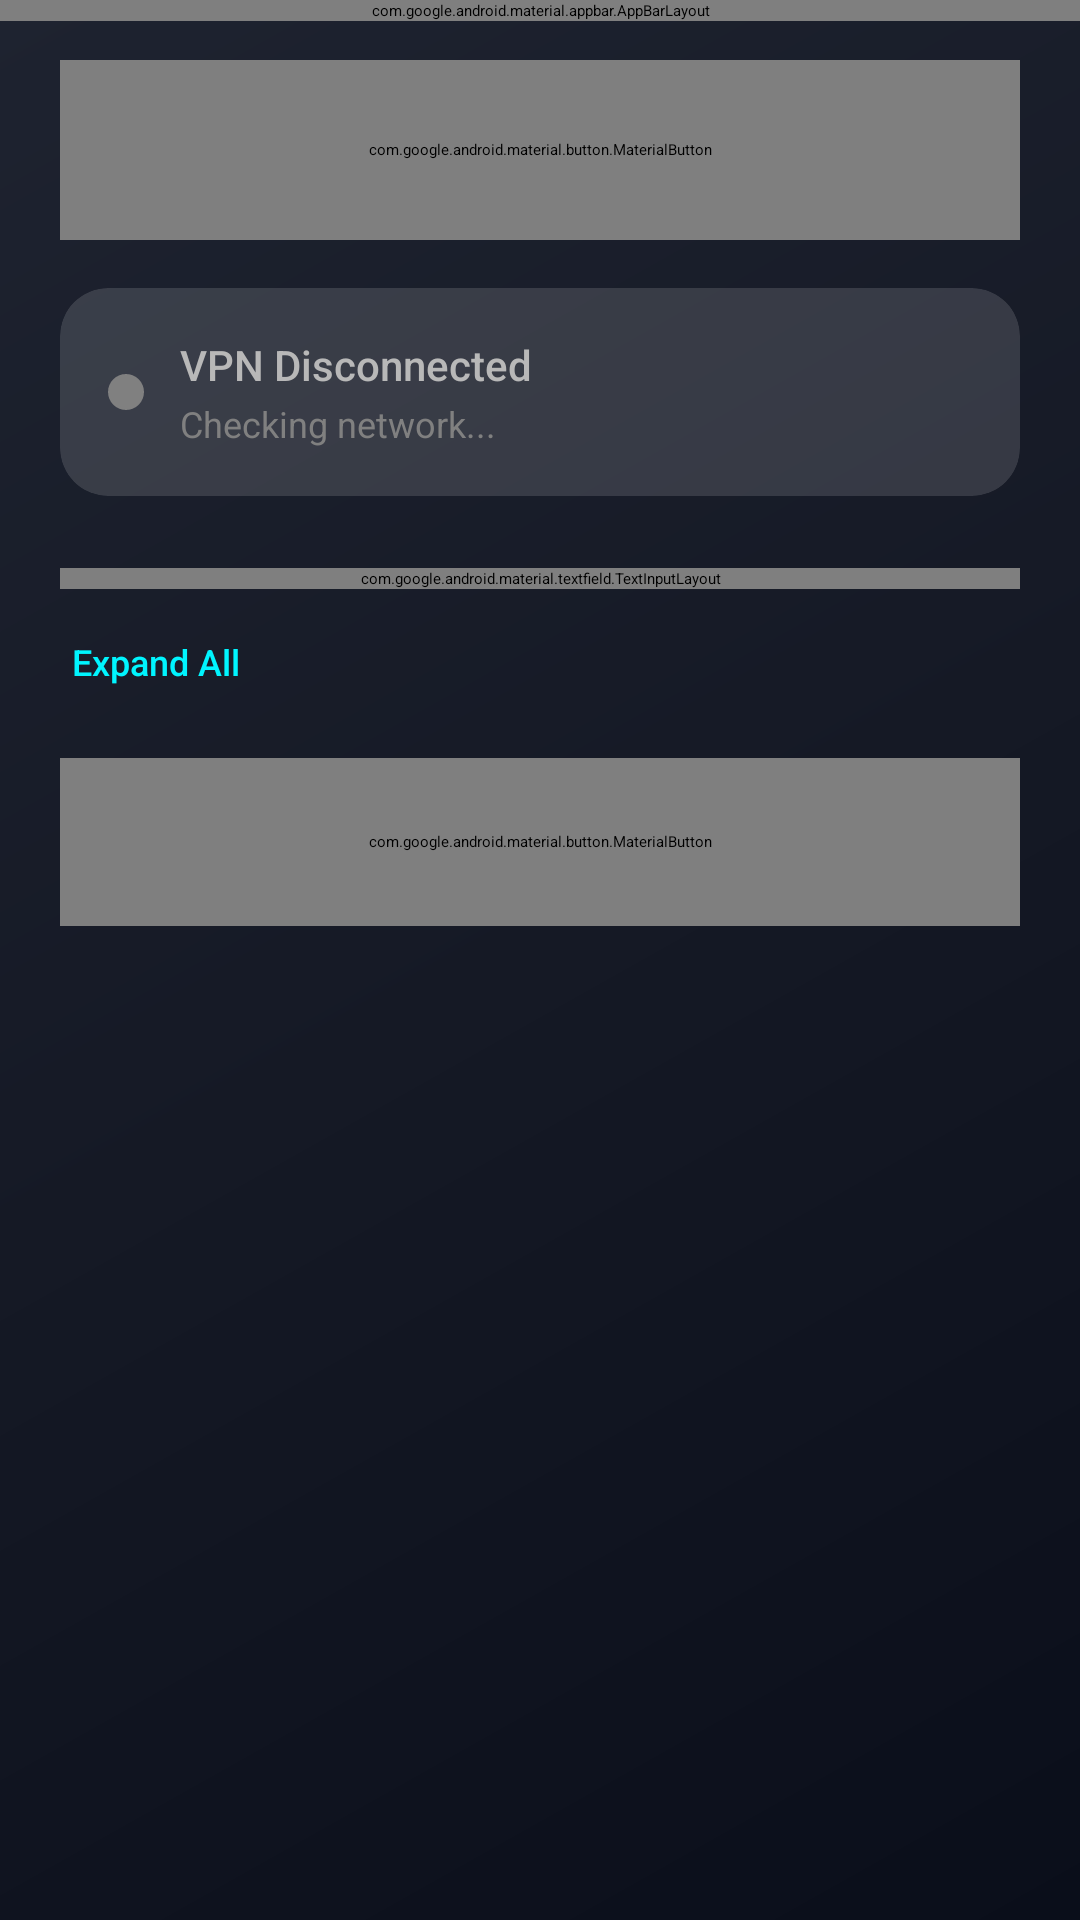

Point at icon controls on the screen. Image size 1080px x 1920px, points as point (x, y).
indicator offline: point (126, 392)
